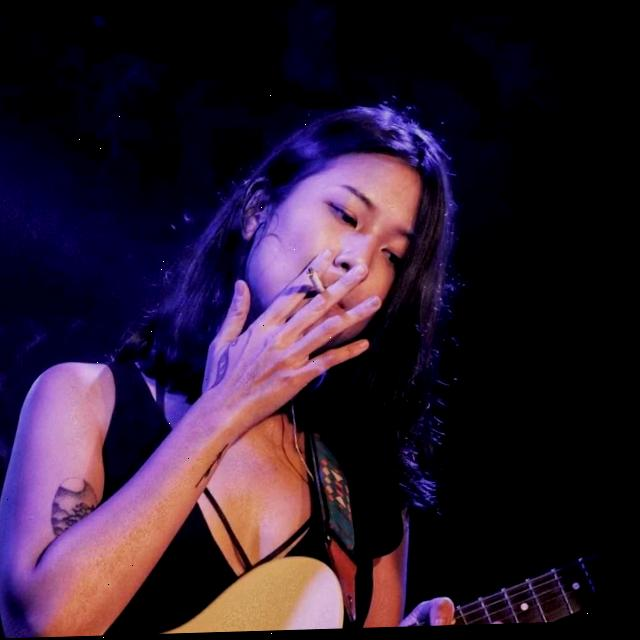cigarette: (310, 268, 332, 296)
